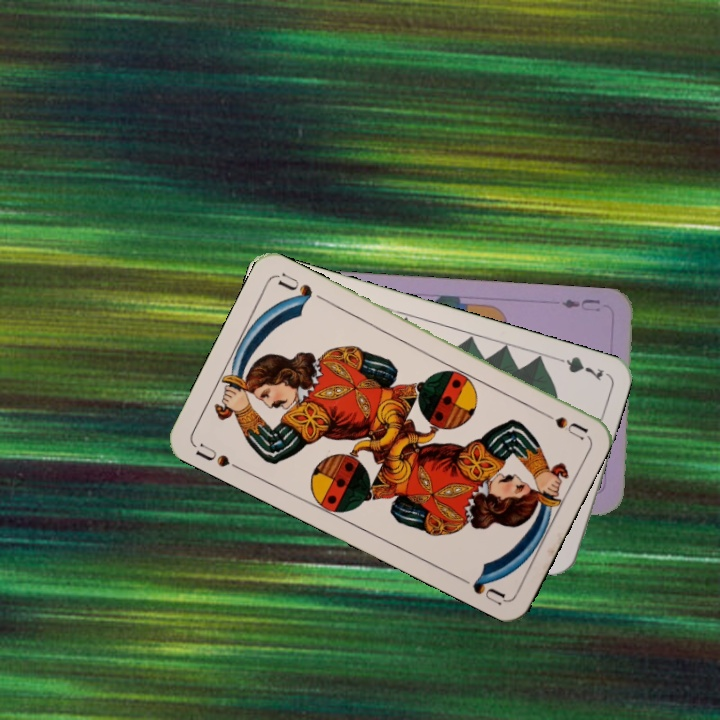EU: (557, 295, 603, 314)
G7: (549, 352, 607, 384)
SU: (533, 404, 590, 442), (190, 439, 246, 474)
